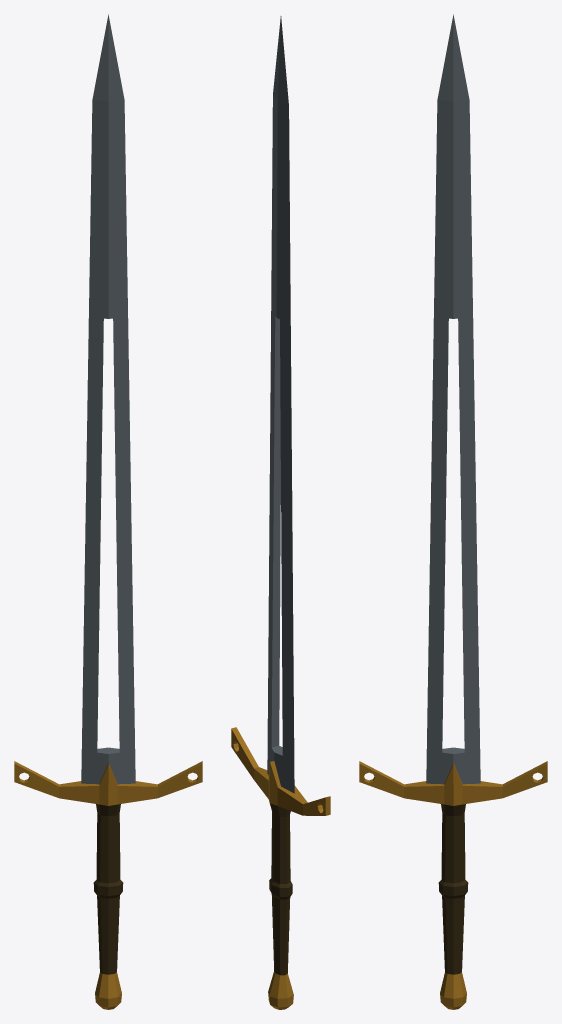
Rendered from LongSword.fbx.
3 views of the same model, side by side, from view 1: azimuth 90°, elevation 25°; view 2: azimuth 210°, elevation 25°; view 3: azimuth 270°, elevation 25° (orthographic).
Parts seen in each view (by area): view 1: LongSword; view 2: LongSword; view 3: LongSword.
Part boxes in pixels (box(x1,y1,x2,y2)): LongSword: box(14, 14, 202, 1009); LongSword: box(231, 16, 330, 1009); LongSword: box(359, 14, 547, 1009).
Size of the model in its own units: 0.0364 by 1.5 by 0.258.
